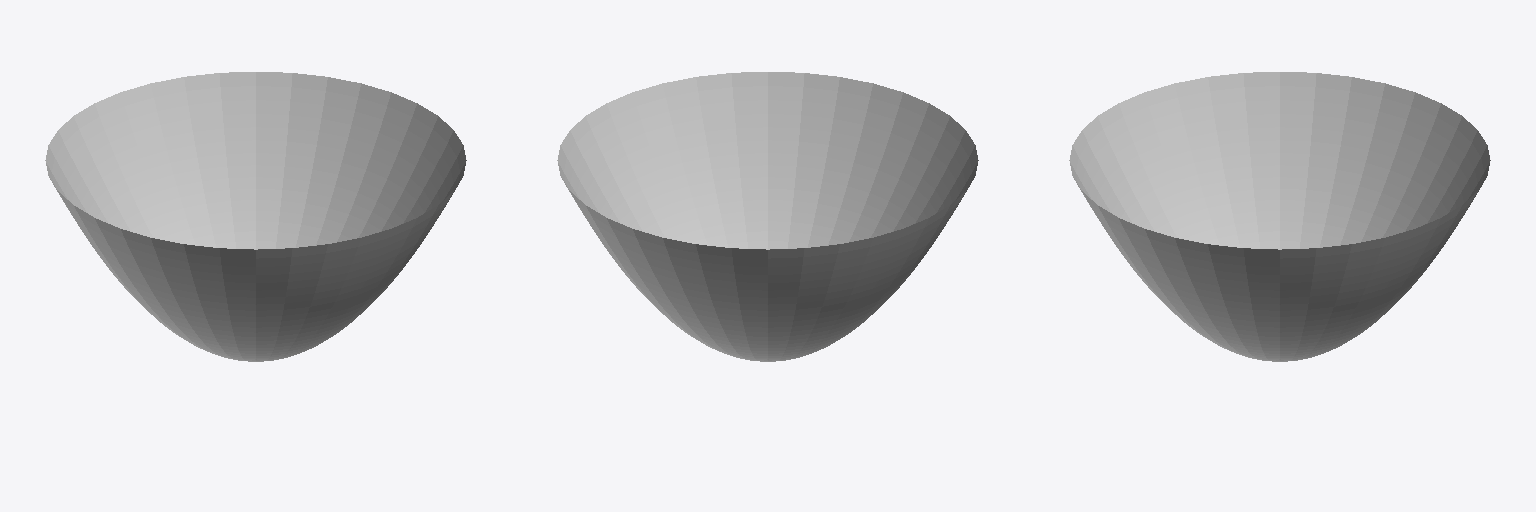
Rendered from parabolicreflector.obj.
3 views of the same model, side by side, from view 1: azimuth 30°, elevation 25°; view 2: azimuth 150°, elevation 25°; view 3: azimuth 270°, elevation 25° (orthographic).
Bounding box in the file's own units: 2 × 1 × 2.